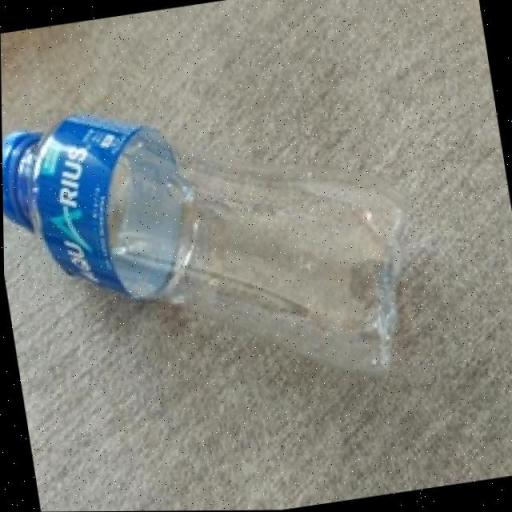plastic: (2, 115, 417, 381)
